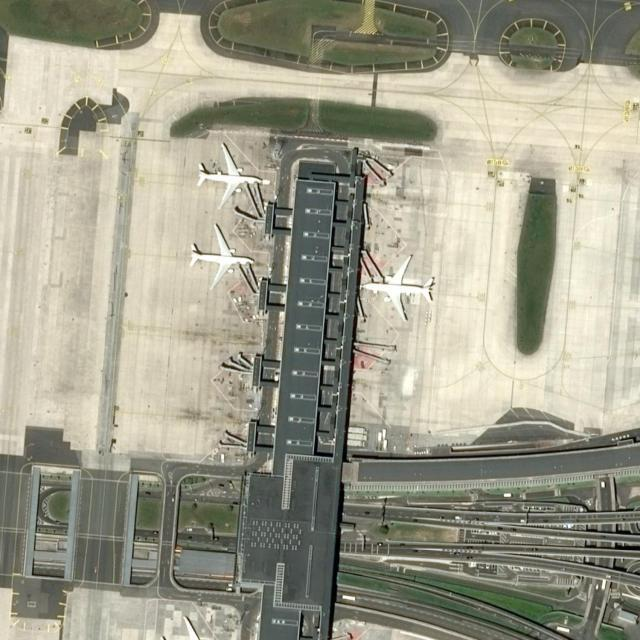Aircraft: (366, 252, 441, 318), (187, 226, 257, 286), (193, 150, 267, 206), (155, 616, 232, 640)
